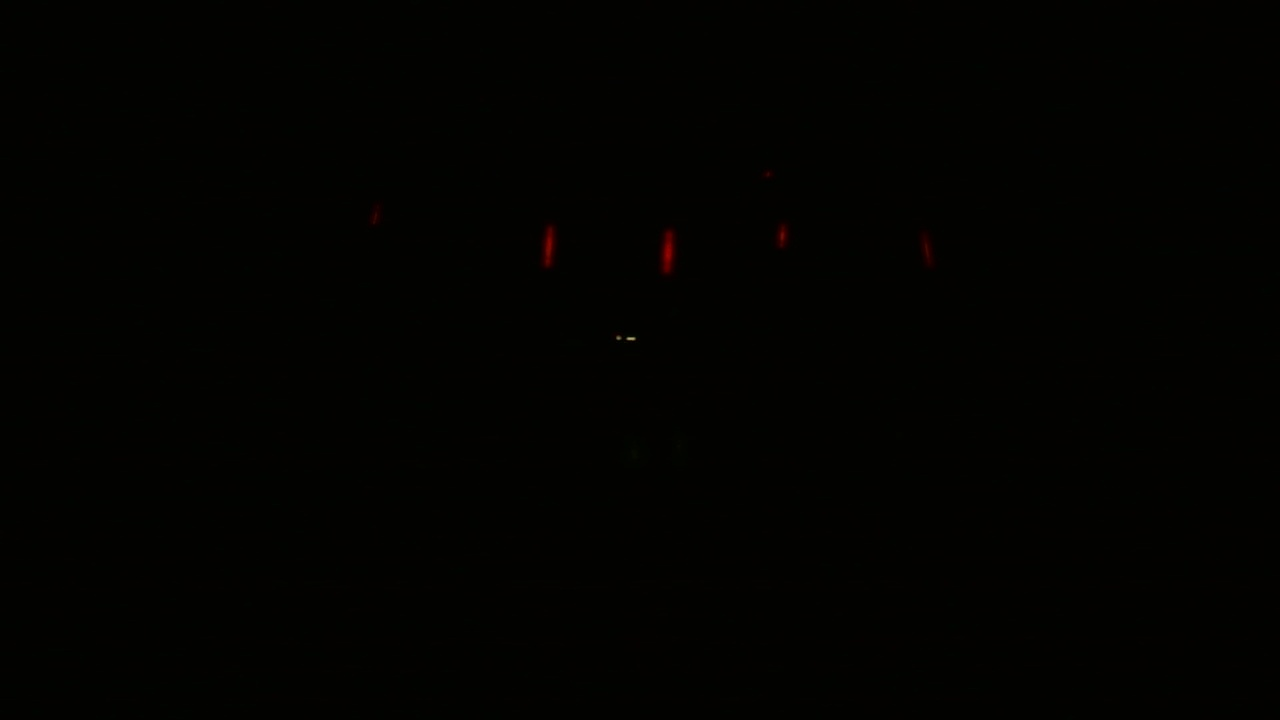pair1: (535, 216, 676, 281)
